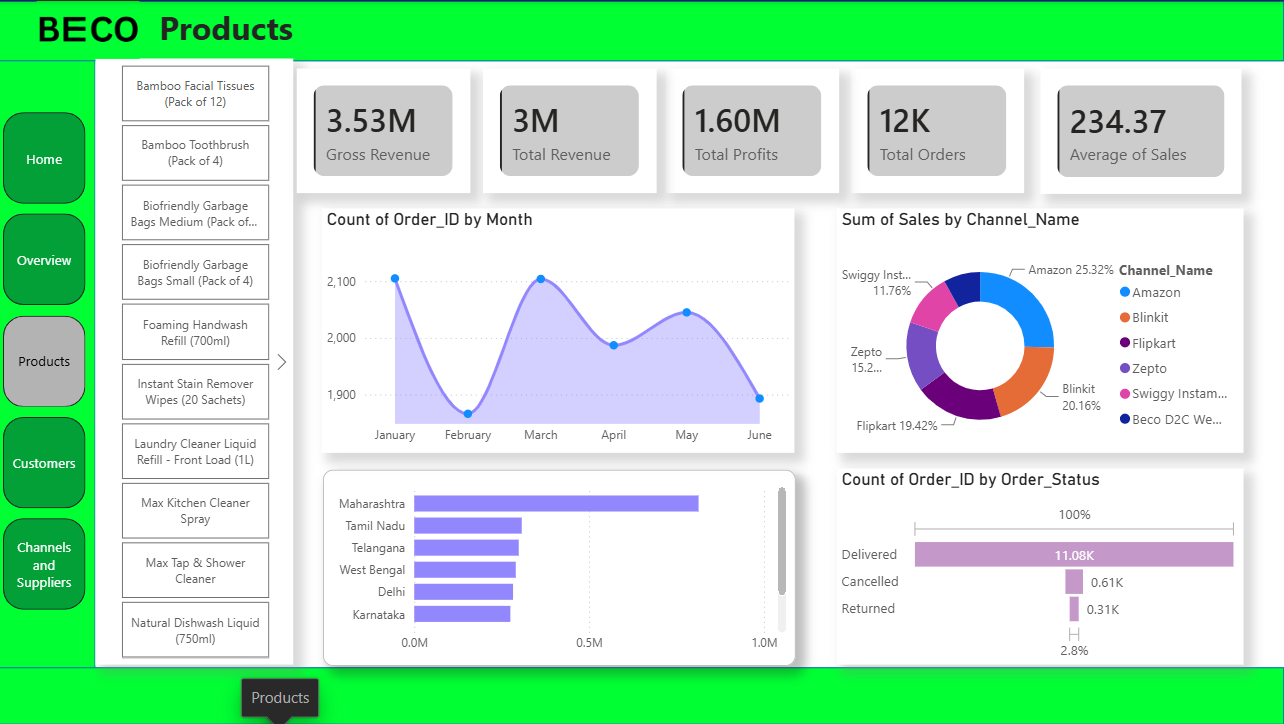

The dashboard page shown, as its layout file describes it:
{"tool":"powerbi","page":{"name":"Products","canvas":[1280,720],"ordinal":2},"visuals":[{"type":"shape","box":[0,0,75.5,720.4],"z":0},{"type":"shape","box":[-0.1,0,1280,60],"z":1000},{"type":"shape","box":[0,663,1280,57.1],"z":2000},{"type":"slicer","fields":{"Values":["Dim_Products.Product_Name"]},"box":[75,60,196.7,603.3],"z":3000},{"type":"cardVisual","fields":{"Data":["Sum(Fact_Sales.Unit_Selling_Price)"]},"box":[297.3,67.2,172.9,124.3],"z":4000},{"type":"cardVisual","fields":{"Data":["CountNonNull(Fact_Sales.Customer_ID)"]},"box":[848.4,67.7,172.9,124.3],"z":5000},{"type":"cardVisual","fields":{"Data":["Table.Total Profits"]},"box":[664.3,67.7,172.9,124.3],"z":6000},{"type":"cardVisual","fields":{"Data":["Sum(Fact_Sales.Sales)"]},"box":[482.7,67.7,172.9,124.3],"z":7000},{"type":"cardVisual","fields":{"Data":["Avg(Fact_Sales.Sales)"]},"box":[1037.5,67.7,200,125],"z":8000},{"type":"lineChart","fields":{"Category":["Fact_Sales.Order_Date.Variation.Date Hierarchy.Month"],"Y":["CountNonNull(Fact_Sales.Order_ID)"]},"box":[322.2,207,470,243.3],"z":9000},{"type":"donutChart","fields":{"Category":["Dim_Channels.Channel_Name"],"Y":["Sum(Fact_Sales.Sales)"]},"box":[834.7,207,405,243.3],"z":10000},{"type":"clusteredBarChart","title":"Sales by State","fields":{"Category":["Dim_Customers.State"],"Y":["Sum(Fact_Sales.Sales)"]},"box":[323.4,467,470,195],"z":11000},{"type":"funnel","fields":{"Category":["Fact_Sales.Order_Status"],"Y":["CountNonNull(Fact_Sales.Order_ID)"]},"box":[834.7,465.7,405,195],"z":12000},{"type":"pageNavigator","box":[5,110.7,64.7,497.6],"z":13000},{"type":"image","box":[0,0,294.8,59.7],"z":14000}]}

Visuals, with their boxes on the page's 1280x720 design canvas (x1, y1, x2, y2). These are canvas units, not pixel positions in the 1284x724 screenshot, which may show the page scaled, cropped or inside an application window:
shape: <box>0,0,76,720</box>
shape: <box>0,0,1280,60</box>
shape: <box>0,663,1280,720</box>
slicer - Dim_Products.Product_Name: <box>75,60,272,663</box>
cardVisual - Sum(Fact_Sales.Unit_Selling_Price): <box>297,67,470,192</box>
cardVisual - CountNonNull(Fact_Sales.Customer_ID): <box>848,68,1021,192</box>
cardVisual - Table.Total Profits: <box>664,68,837,192</box>
cardVisual - Sum(Fact_Sales.Sales): <box>483,68,656,192</box>
cardVisual - Avg(Fact_Sales.Sales): <box>1038,68,1238,193</box>
lineChart - Fact_Sales.Order_Date.Variation.Date Hierarchy.Month x CountNonNull(Fact_Sales.Order_ID): <box>322,207,792,450</box>
donutChart - Dim_Channels.Channel_Name x Sum(Fact_Sales.Sales): <box>835,207,1240,450</box>
"Sales by State" clusteredBarChart: <box>323,467,793,662</box>
funnel - Fact_Sales.Order_Status x CountNonNull(Fact_Sales.Order_ID): <box>835,466,1240,661</box>
pageNavigator: <box>5,111,70,608</box>
image: <box>0,0,295,60</box>
